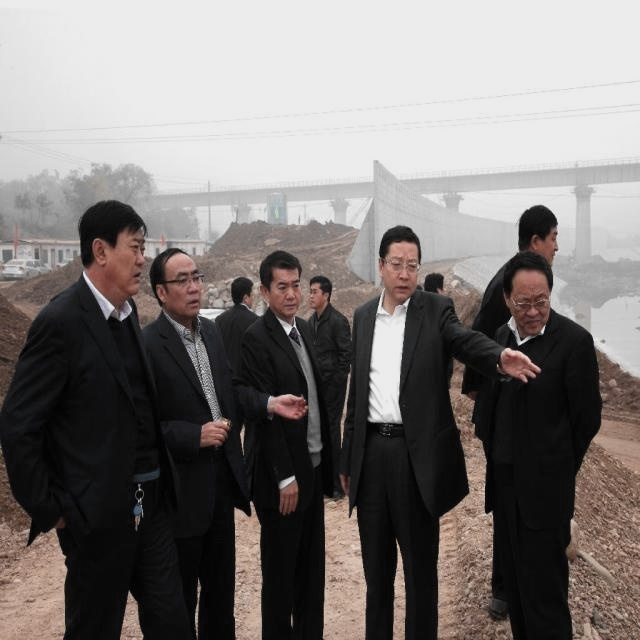Sin_Casco_Mascarrilla: (79, 201, 148, 300), (377, 225, 421, 299), (259, 250, 305, 319)
